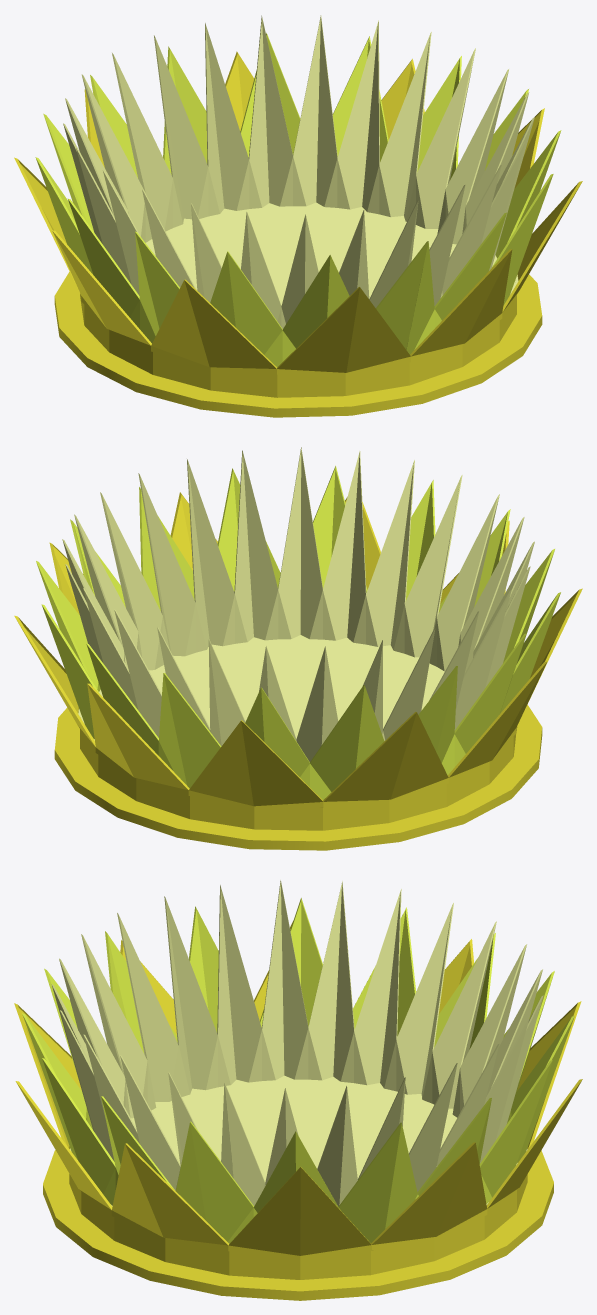
File: portal_000004.obj
The picture shows the model from 3 angles, top to bottom: view 1: azimuth 30°, elevation 25°; view 2: azimuth 150°, elevation 25°; view 3: azimuth 270°, elevation 25°; orthographic projection. The views are drawn at different scales.
Visible parts, largest first — view 1: Cylinder.001, pCylinder1, Cylinder; view 2: Cylinder.001, pCylinder1, Cylinder; view 3: Cylinder.001, pCylinder1, Cylinder.
Part boxes in pixels (box(x1,y1,x2,y2)): Cylinder.001: box(63, 15, 534, 328); pCylinder1: box(14, 51, 582, 417); Cylinder: box(35, 33, 561, 367); Cylinder.001: box(62, 447, 534, 761); pCylinder1: box(14, 492, 582, 850); Cylinder: box(36, 465, 560, 799); Cylinder.001: box(51, 880, 543, 1206); pCylinder1: box(14, 921, 582, 1300); Cylinder: box(22, 898, 574, 1243).
Bounding box in the file's own units: 7.45 × 2.9 × 7.1.
3 materials, 3 textured.
